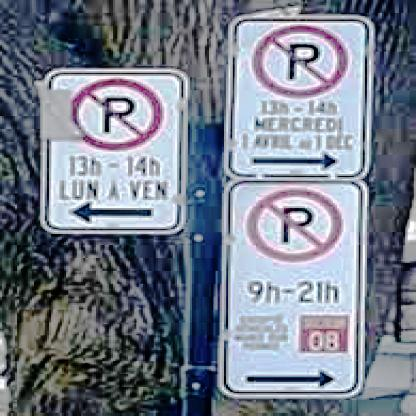No parking: (250, 26, 357, 98), (68, 77, 165, 151), (247, 188, 343, 262)
